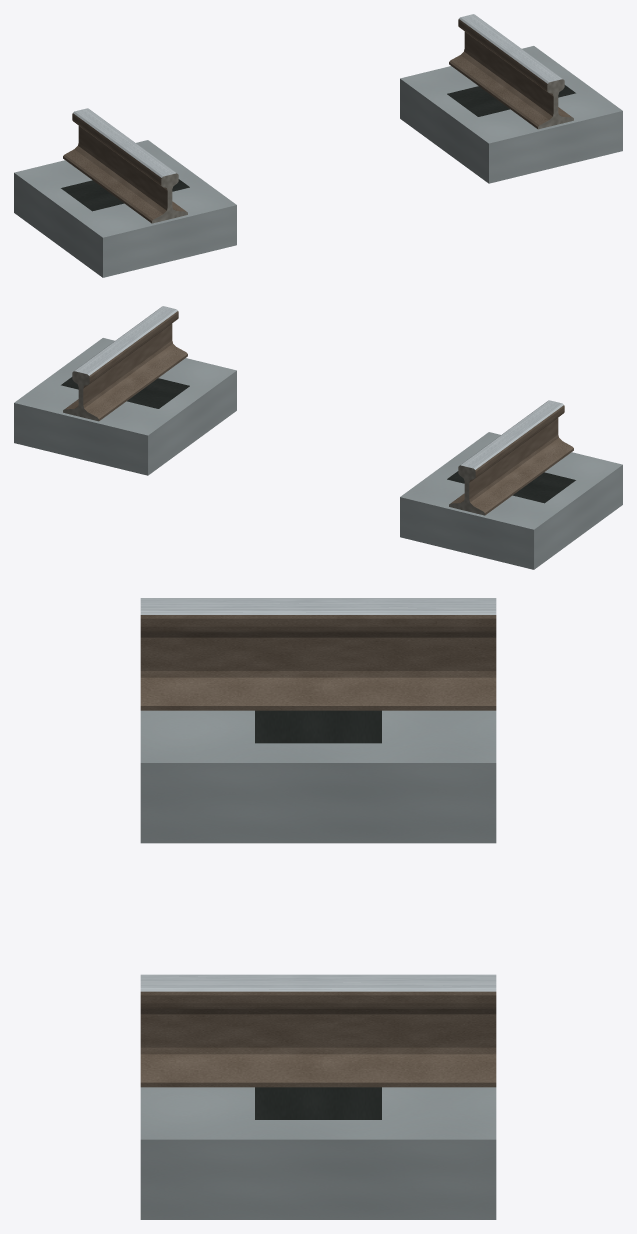
File: direct_low.obj
The picture shows the model from 3 angles, top to bottom: view 1: azimuth 30°, elevation 25°; view 2: azimuth 150°, elevation 25°; view 3: azimuth 270°, elevation 25°; orthographic projection. The views are drawn at different scales.
Parts seen in each view (by area): view 1: direct_bearer, rail_right, rail_left, fastener_left, fastener_right, rail_left_end, rail_right_end; view 2: direct_bearer, rail_right, rail_left, fastener_left, fastener_right, rail_left_end, rail_right_end; view 3: direct_bearer, rail_right, rail_left, fastener_left, fastener_right.
Boxes of the visible parts, left/top/right/bottom form: direct_bearer: left=14, top=46, right=622, bottom=277; rail_right: left=449, top=14, right=571, bottom=128; rail_left: left=63, top=108, right=186, bottom=223; fastener_left: left=61, top=179, right=189, bottom=211; fastener_right: left=447, top=85, right=575, bottom=116; rail_left_end: left=152, top=173, right=187, bottom=223; rail_right_end: left=538, top=79, right=573, bottom=129; direct_bearer: left=14, top=338, right=622, bottom=569; rail_right: left=65, top=306, right=187, bottom=420; rail_left: left=450, top=400, right=573, bottom=515; fastener_left: left=447, top=471, right=575, bottom=503; fastener_right: left=61, top=377, right=189, bottom=408; rail_left_end: left=449, top=465, right=484, bottom=515; rail_right_end: left=63, top=371, right=98, bottom=421; direct_bearer: left=140, top=710, right=496, bottom=1219; rail_right: left=140, top=974, right=496, bottom=1087; rail_left: left=140, top=598, right=496, bottom=710; fastener_left: left=255, top=710, right=381, bottom=743; fastener_right: left=255, top=1087, right=381, bottom=1119.
Bounding box in the file's own units: 2.03 × 0.3224 × 0.6.
